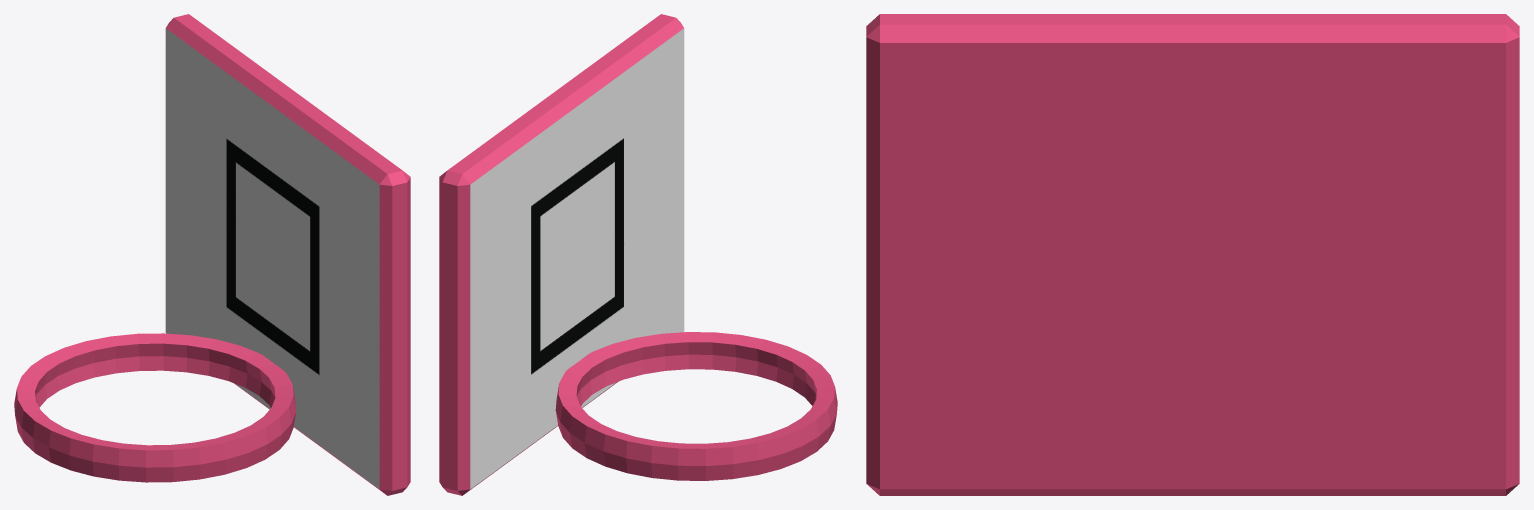
Rendered from Hoop.fbx.
The picture shows the model from 3 angles, left to right: view 1: azimuth 30°, elevation 25°; view 2: azimuth 150°, elevation 25°; view 3: azimuth 270°, elevation 25°; orthographic projection. The views are drawn at different scales.
Parts seen in each view (by area): view 1: Sphere.009; view 2: Sphere.009; view 3: Sphere.009.
Part boxes in pixels (x1,y1,x2,y2): Sphere.009: (14,14,410,495); Sphere.009: (439,14,837,495); Sphere.009: (866,14,1519,495).
Bounding box in the file's own units: 33.51 × 37.88 × 47.61.
2 materials, 1 textured.
